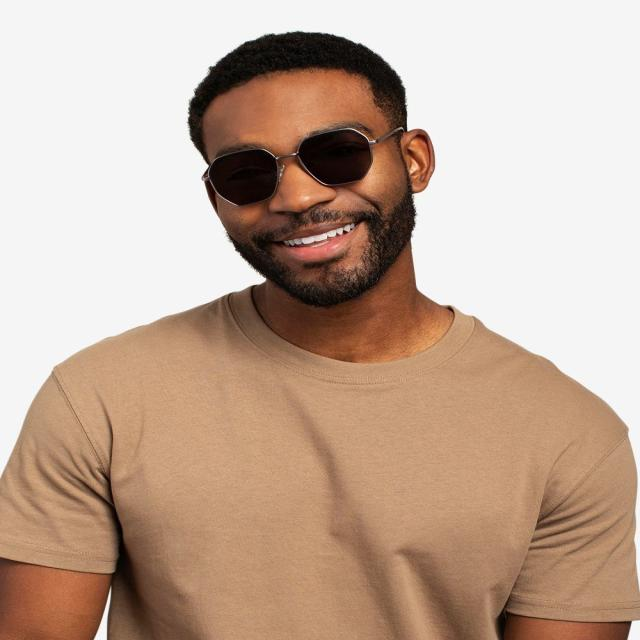2_gafas: (201, 124, 405, 207)
